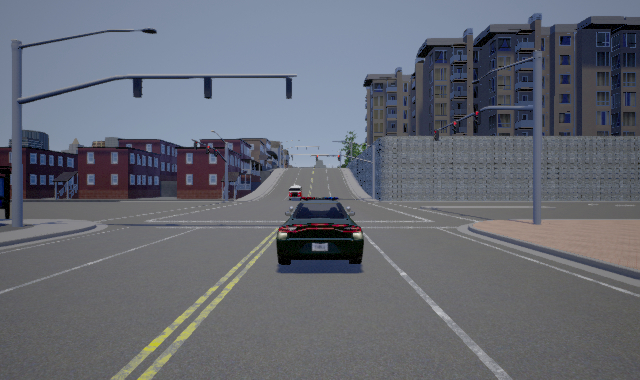traffic_light: (474, 110, 481, 125), (452, 121, 459, 134), (434, 130, 439, 141), (194, 140, 198, 150), (206, 145, 210, 154), (214, 149, 218, 157), (338, 155, 340, 161), (316, 155, 318, 161), (291, 155, 293, 161), (281, 152, 283, 156)
vehicle: (276, 195, 364, 264), (287, 183, 302, 199)
